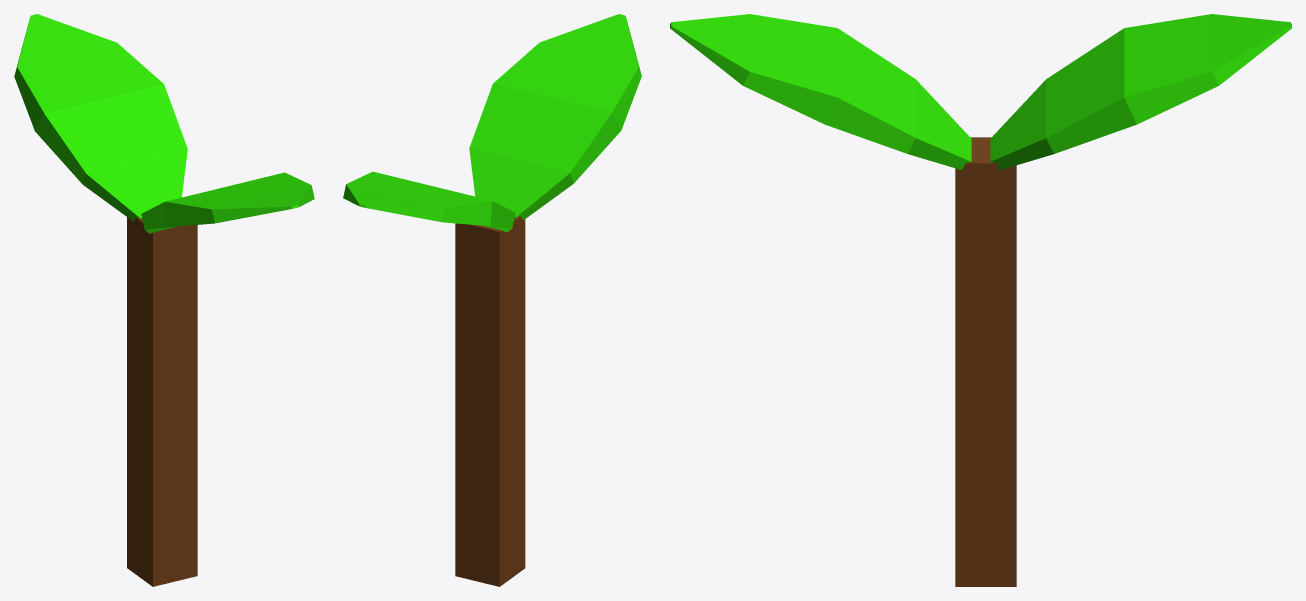
The model's file is seed.glb.
The picture shows the model from 3 angles, left to right: view 1: azimuth 30°, elevation 25°; view 2: azimuth 150°, elevation 25°; view 3: azimuth 270°, elevation 25°; orthographic projection. The views are drawn at different scales.
Visible parts, largest first — view 1: Cube, Cube.001, Cube.002; view 2: Cube, Cube.002, Cube.001; view 3: Cube, Cube.002, Cube.001.
Boxes of the visible parts, x1,y1,x2,y2 form: Cube: (127, 217, 197, 586); Cube.001: (14, 14, 187, 221); Cube.002: (141, 172, 314, 233); Cube: (455, 216, 525, 586); Cube.002: (469, 14, 641, 220); Cube.001: (343, 171, 515, 232); Cube: (955, 137, 1016, 586); Cube.002: (670, 14, 971, 170); Cube.001: (990, 14, 1291, 170).
Size of the model in its own units: 0.4491 by 1.56 by 1.6.
